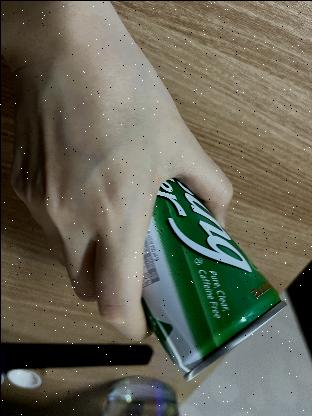Can: (139, 179, 285, 378)
